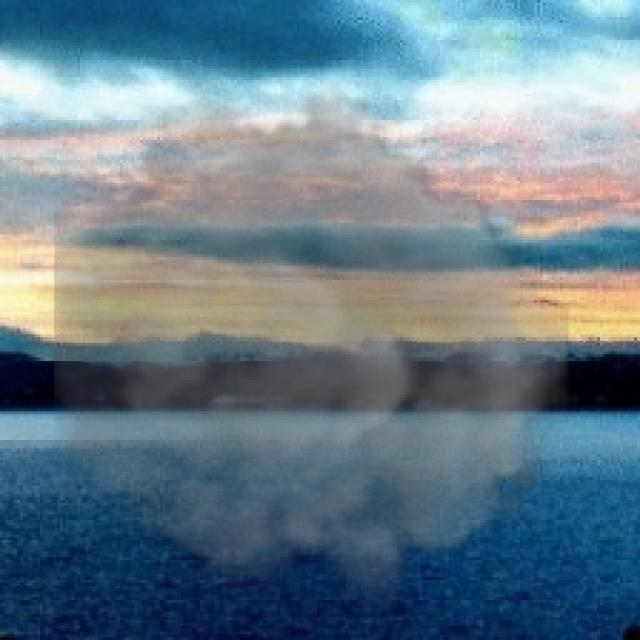smoke: (54, 80, 569, 614)
